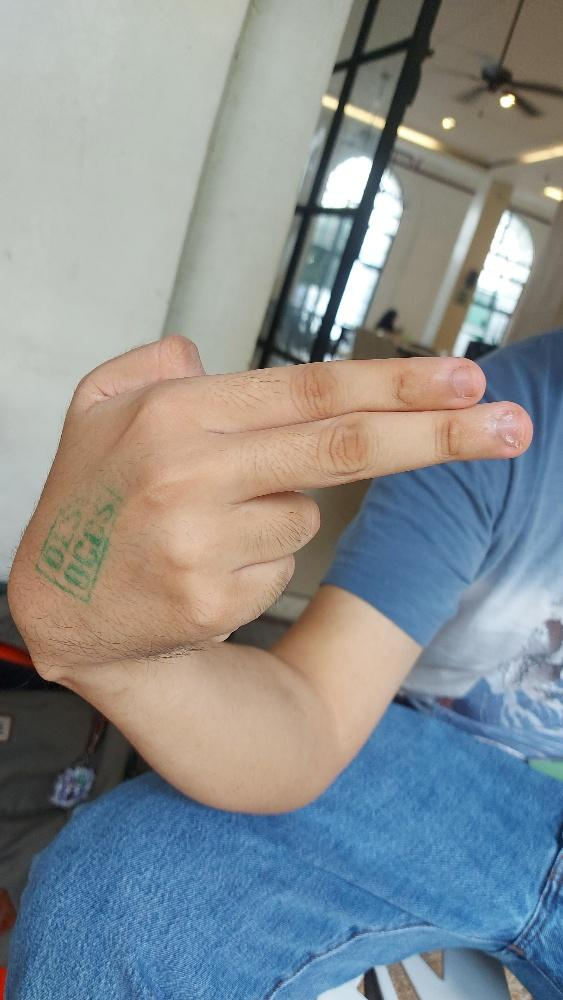h: (5, 332, 533, 664)
